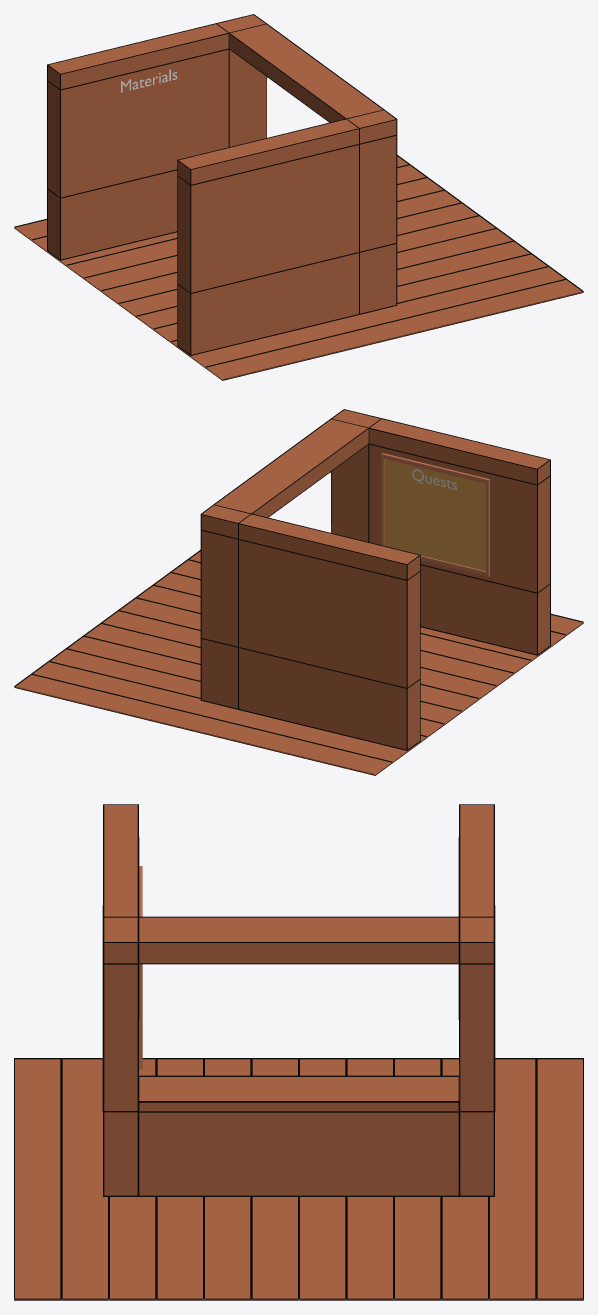
File: Inside_YGC.fbx
3 renders of one model, top to bottom at view 1: azimuth 30°, elevation 25°; view 2: azimuth 150°, elevation 25°; view 3: azimuth 270°, elevation 25°, orthographic. The views are drawn at different scales.
Visible parts, largest first — view 1: YGC, Plane, Wire, Plane.001; view 2: YGC, Plane, Board, Wire, Plane.001; view 3: Plane, YGC, Wire, Plane.001, Board.
Boxes of the visible parts, bbox=[...] form: YGC: bbox=[48, 15, 396, 354]; Plane: bbox=[14, 156, 583, 379]; Wire: bbox=[47, 14, 397, 355]; Plane.001: bbox=[14, 155, 583, 380]; YGC: bbox=[201, 410, 549, 749]; Plane: bbox=[14, 551, 583, 774]; Board: bbox=[381, 453, 489, 576]; Wire: bbox=[200, 409, 550, 750]; Plane.001: bbox=[14, 550, 583, 775]; Plane: bbox=[14, 1059, 583, 1299]; YGC: bbox=[104, 805, 493, 1195]; Wire: bbox=[102, 804, 495, 1196]; Plane.001: bbox=[14, 1058, 583, 1300]; Board: bbox=[139, 866, 142, 1069].
Size of the model in its own units: 2275 by 1129 by 2275.
